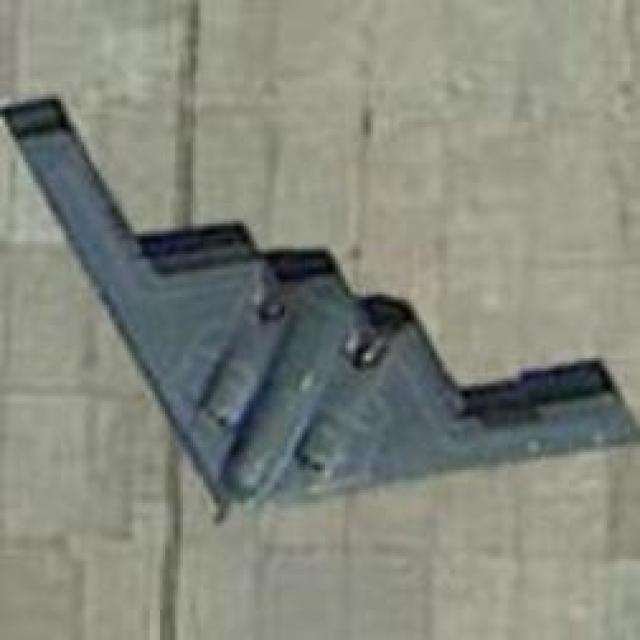B-2_TopDown: (0, 86, 637, 523)
